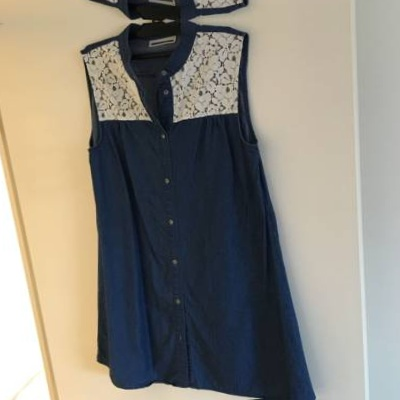Dress: (50, 26, 328, 398), (43, 0, 321, 14)
